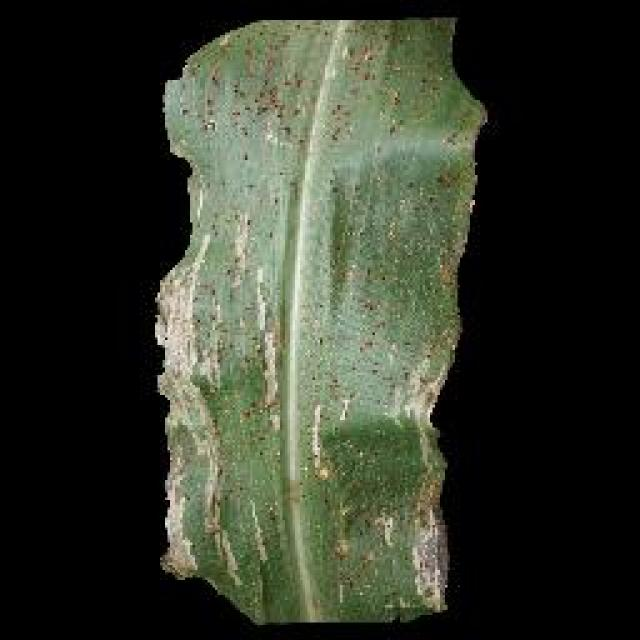Corn Common Rust: (162, 55, 400, 483)
